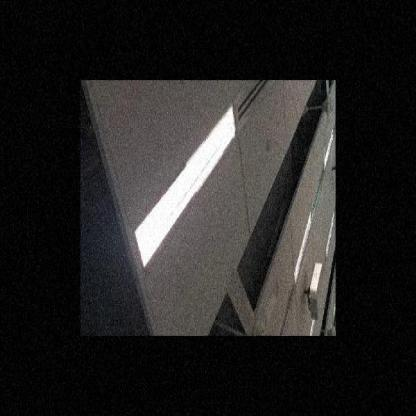light_on: (130, 98, 240, 276), (289, 204, 312, 286), (320, 122, 336, 172), (324, 207, 336, 262), (306, 313, 317, 336)
